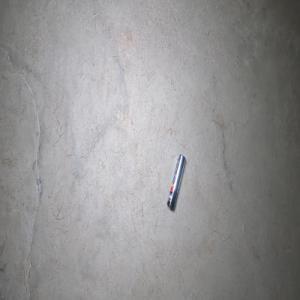Battery: (166, 153, 186, 210)
